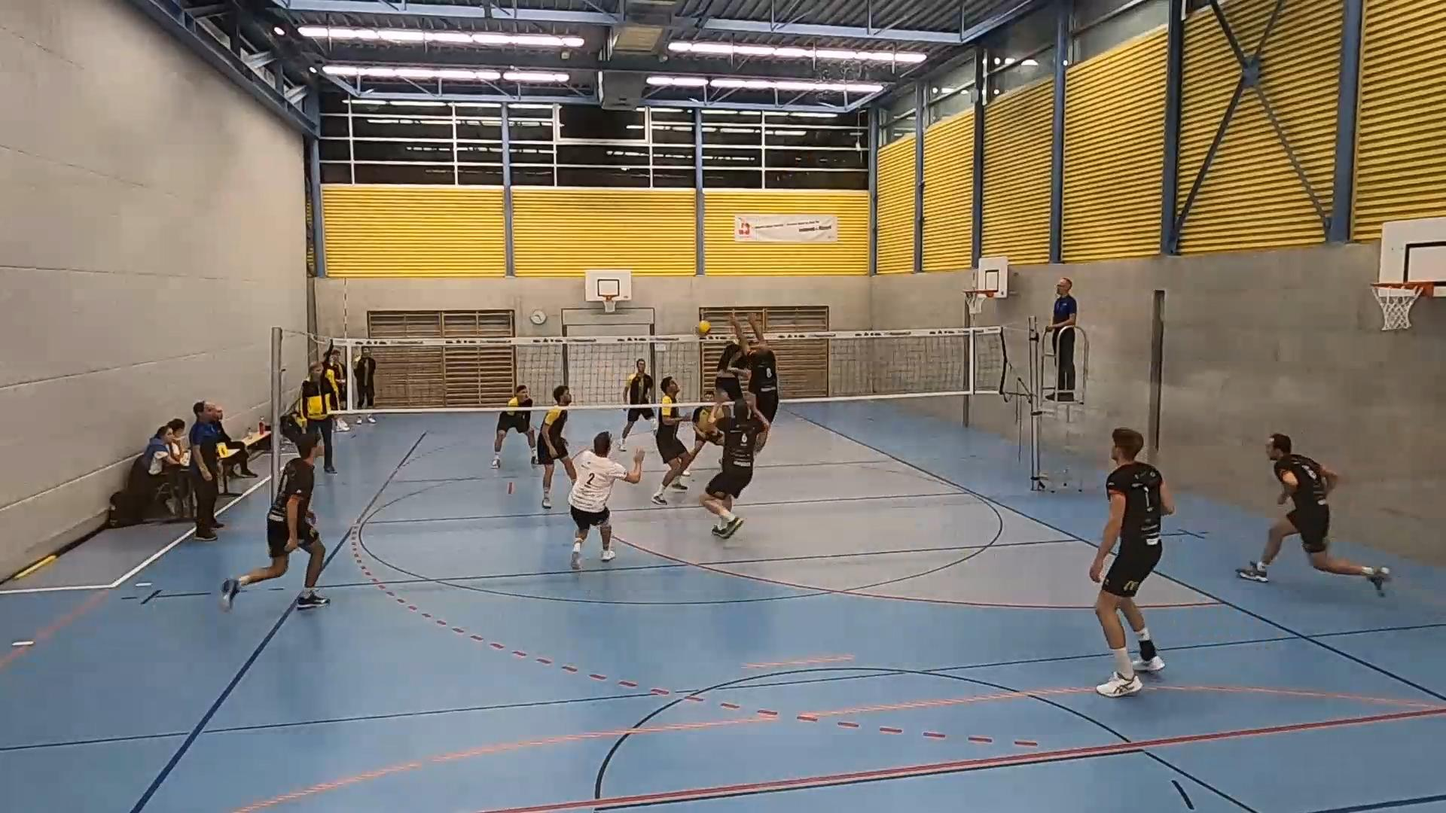attacco: (712, 321, 753, 415)
difesa: (689, 382, 776, 543)
muro: (722, 315, 782, 432)
